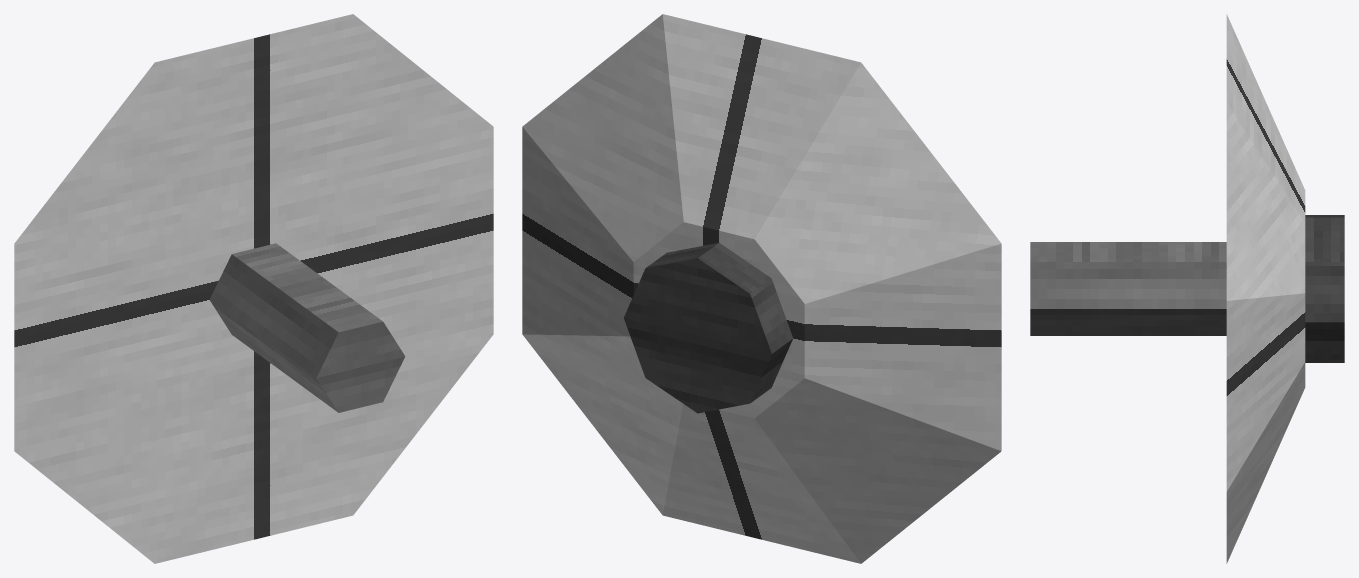
File: dish_aphelion.glb
3 renders of one model, left to right at view 1: azimuth 30°, elevation 25°; view 2: azimuth 150°, elevation 25°; view 3: azimuth 270°, elevation 25°, orthographic. The views are drawn at different scales.
Visible parts, largest first — view 1: dish, dish_mast; view 2: dish, dish_core; view 3: dish, dish_mast, dish_core.
Boxes of the visible parts, left/top/right/bottom form: dish: left=14, top=14, right=493, bottom=563; dish_mast: left=209, top=243, right=405, bottom=412; dish: left=522, top=14, right=1001, bottom=563; dish_core: left=624, top=243, right=793, bottom=413; dish: left=1226, top=14, right=1305, bottom=563; dish_mast: left=1030, top=242, right=1226, bottom=335; dish_core: left=1305, top=215, right=1344, bottom=362.
Size of the model in its own units: 12.93 by 12.93 by 8.
3 materials, 3 textured.
